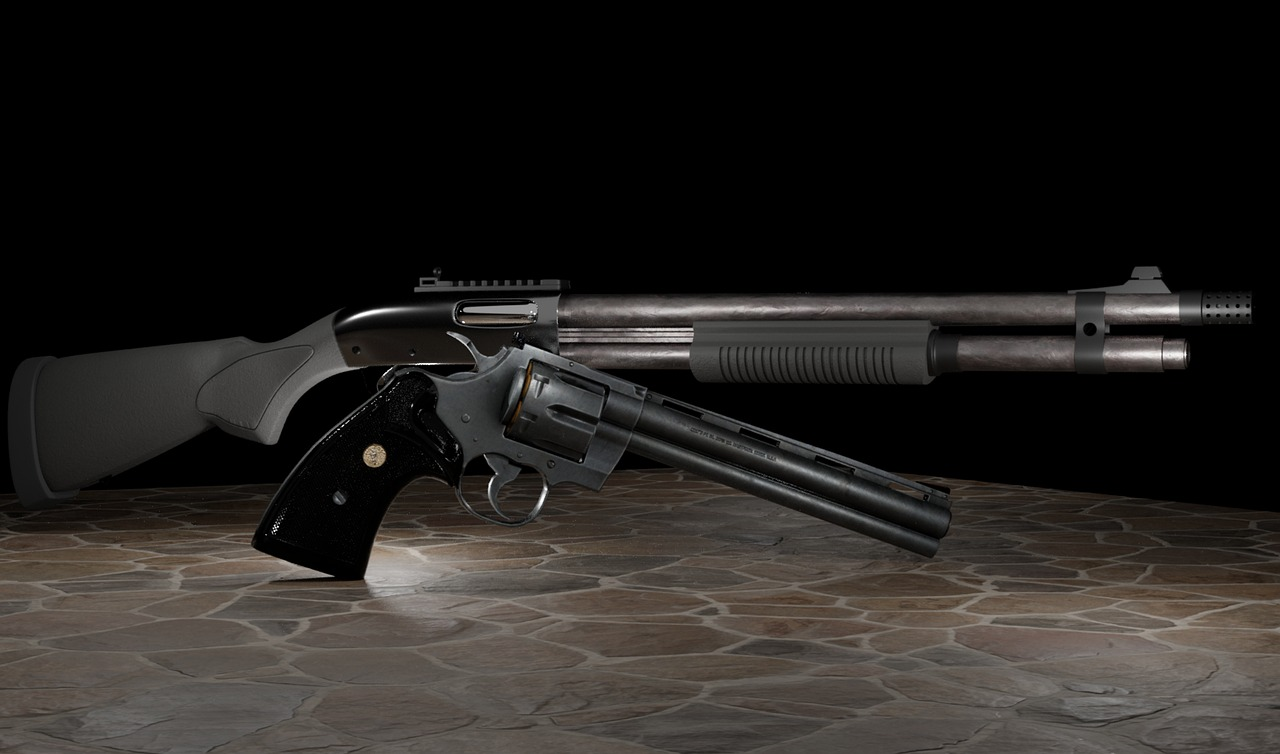gun: (2, 258, 1258, 512), (244, 322, 959, 583)
